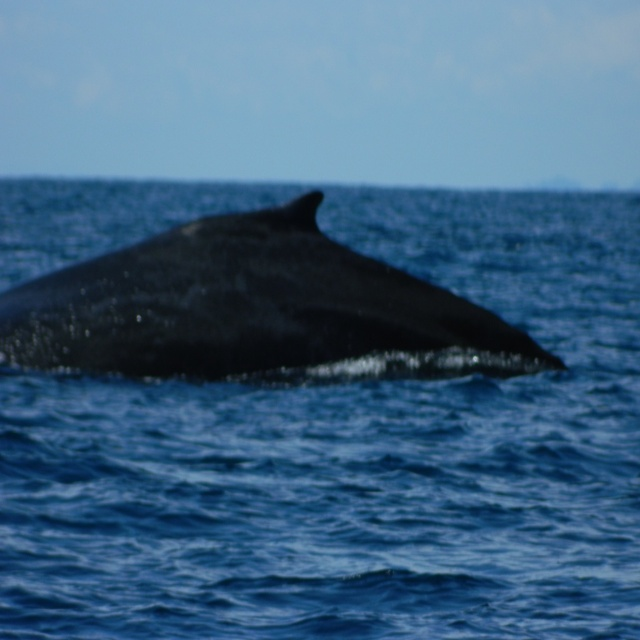Whale: (0, 190, 568, 382)
